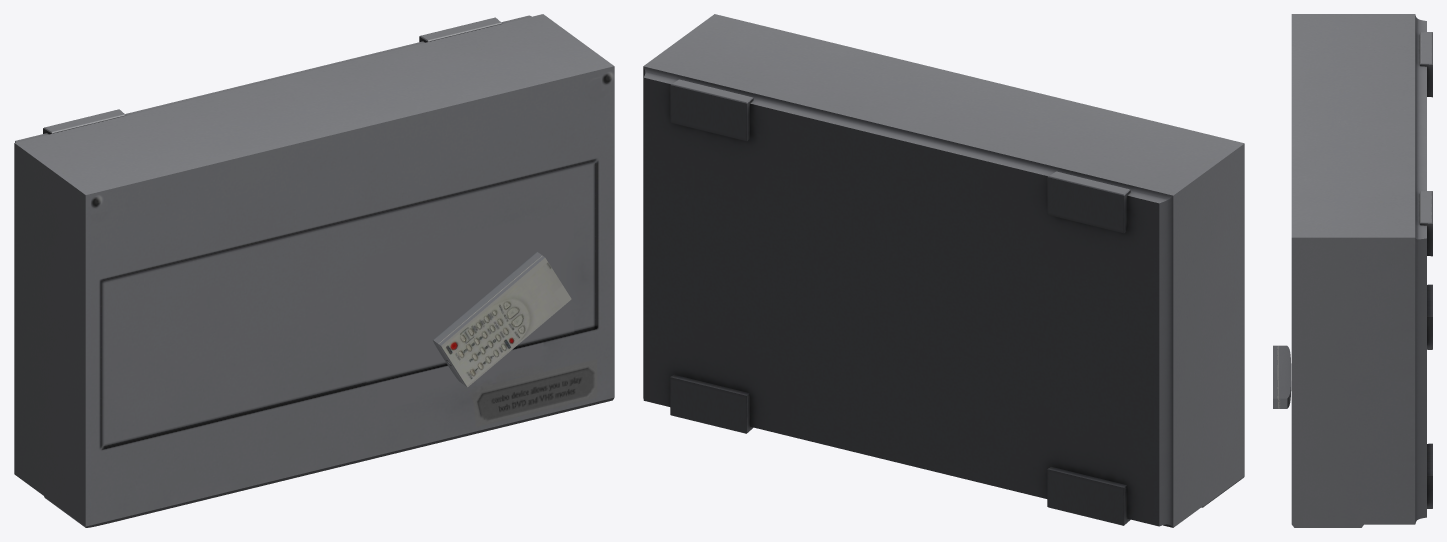
The model's file is 10127_Vcr_player_v1_L3.obj.
The picture shows the model from 3 angles, left to right: view 1: azimuth 30°, elevation 25°; view 2: azimuth 150°, elevation 25°; view 3: azimuth 270°, elevation 25°; orthographic projection. The views are drawn at different scales.
Visible parts, largest first — view 1: 10127_Vcr_player_v1_SG; view 2: 10127_Vcr_player_v1_SG; view 3: 10127_Vcr_player_v1_SG.
Boxes of the visible parts, x1,y1,x2,y2 form: 10127_Vcr_player_v1_SG: (14,14,614,527); 10127_Vcr_player_v1_SG: (643,14,1244,527); 10127_Vcr_player_v1_SG: (1273,14,1432,527).
Bounding box in the file's own units: 14.19 × 8.6 × 4.29.
1 material, 1 textured.
